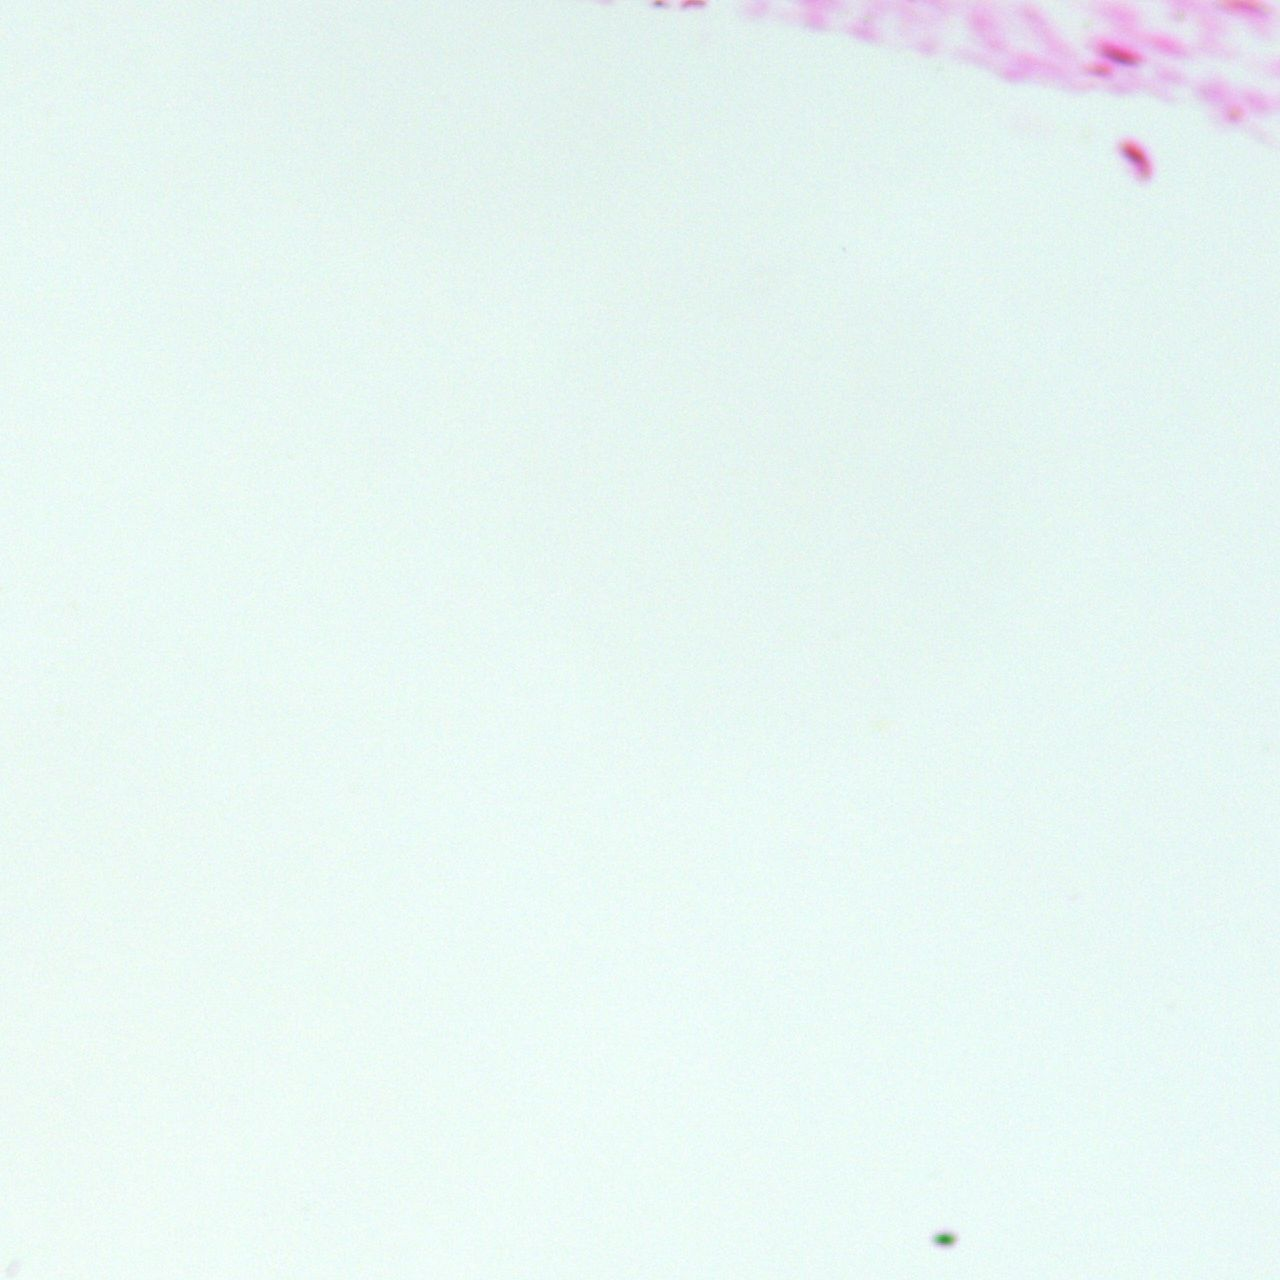dust: (930, 1228, 954, 1251)
nucleus-FG: (1116, 136, 1156, 179), (1099, 42, 1141, 72)
